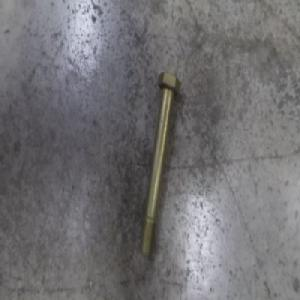Bolt: (138, 68, 182, 260)
